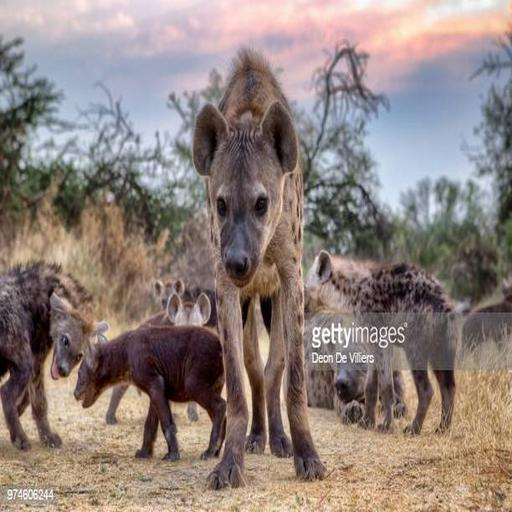Hyena: (191, 49, 322, 488), (294, 244, 512, 437), (75, 321, 233, 465), (0, 260, 100, 459)
